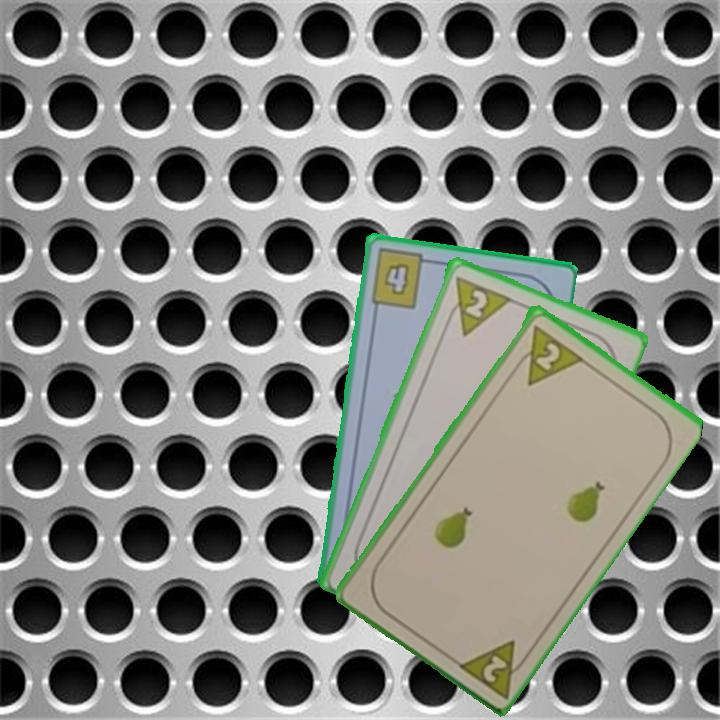2p: (452, 635, 535, 700), (507, 320, 584, 388), (440, 272, 513, 339)
4b: (366, 245, 437, 312)
